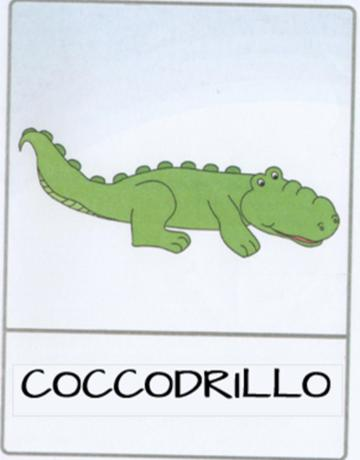coccodrillo: (1, 1, 360, 460)
